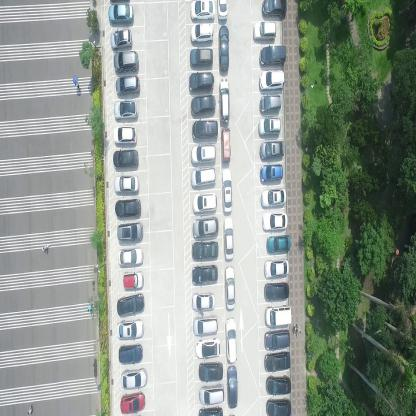car: (117, 292, 145, 318), (120, 390, 146, 415), (264, 303, 292, 326), (225, 316, 238, 364), (116, 221, 143, 244), (116, 316, 143, 339), (192, 215, 219, 238), (190, 166, 216, 189), (192, 314, 218, 337), (113, 50, 140, 72), (190, 144, 216, 166), (190, 94, 216, 116), (264, 350, 290, 372), (115, 74, 140, 96), (121, 368, 146, 390), (195, 336, 220, 358), (198, 360, 223, 382), (199, 383, 224, 405), (263, 257, 289, 278), (264, 328, 290, 349), (192, 264, 218, 285), (192, 191, 218, 212), (108, 4, 135, 24), (259, 46, 286, 66), (112, 148, 139, 168), (118, 342, 142, 364), (114, 174, 139, 195), (117, 246, 142, 267), (114, 198, 140, 218), (263, 280, 289, 300), (265, 374, 291, 394), (192, 240, 219, 259), (110, 27, 132, 50), (225, 264, 236, 310), (113, 124, 137, 145), (260, 69, 284, 90), (192, 290, 216, 311), (113, 99, 138, 119), (189, 72, 214, 92), (222, 214, 233, 259), (227, 364, 238, 409), (192, 120, 218, 139), (262, 211, 288, 230), (266, 396, 292, 415), (261, 188, 287, 207), (219, 23, 229, 72), (190, 0, 214, 20), (189, 24, 213, 44), (189, 47, 213, 67), (259, 139, 284, 158), (122, 268, 144, 289), (254, 20, 276, 41), (221, 166, 231, 212), (219, 76, 229, 122), (260, 162, 283, 182), (262, 0, 287, 18), (266, 234, 290, 252), (260, 94, 282, 113), (258, 117, 281, 135), (220, 126, 230, 164), (198, 404, 223, 415), (217, 0, 228, 20)
